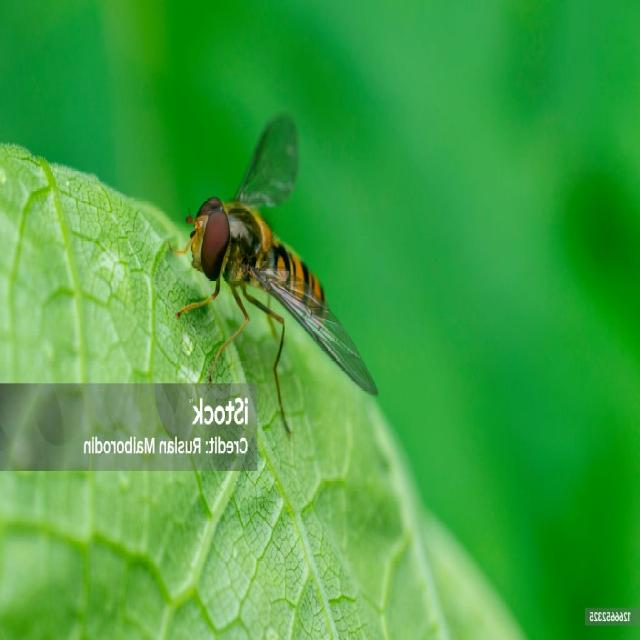hoverfly: (162, 110, 379, 438)
